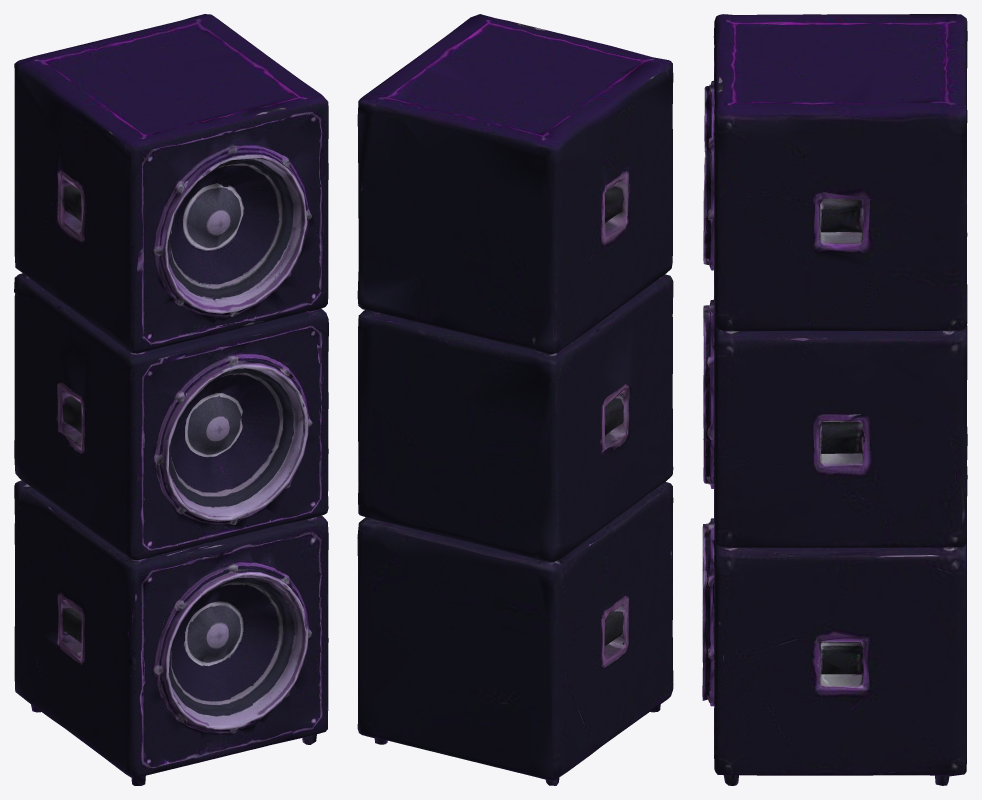
File: bhSpeakerStack.c6feff47.glb
The picture shows the model from 3 angles, left to right: view 1: azimuth 30°, elevation 25°; view 2: azimuth 150°, elevation 25°; view 3: azimuth 270°, elevation 25°; orthographic projection. The views are drawn at different scales.
Bounding box in the file's own units: 0.6229 × 1.9 × 0.6757.
1 material, 1 textured.
